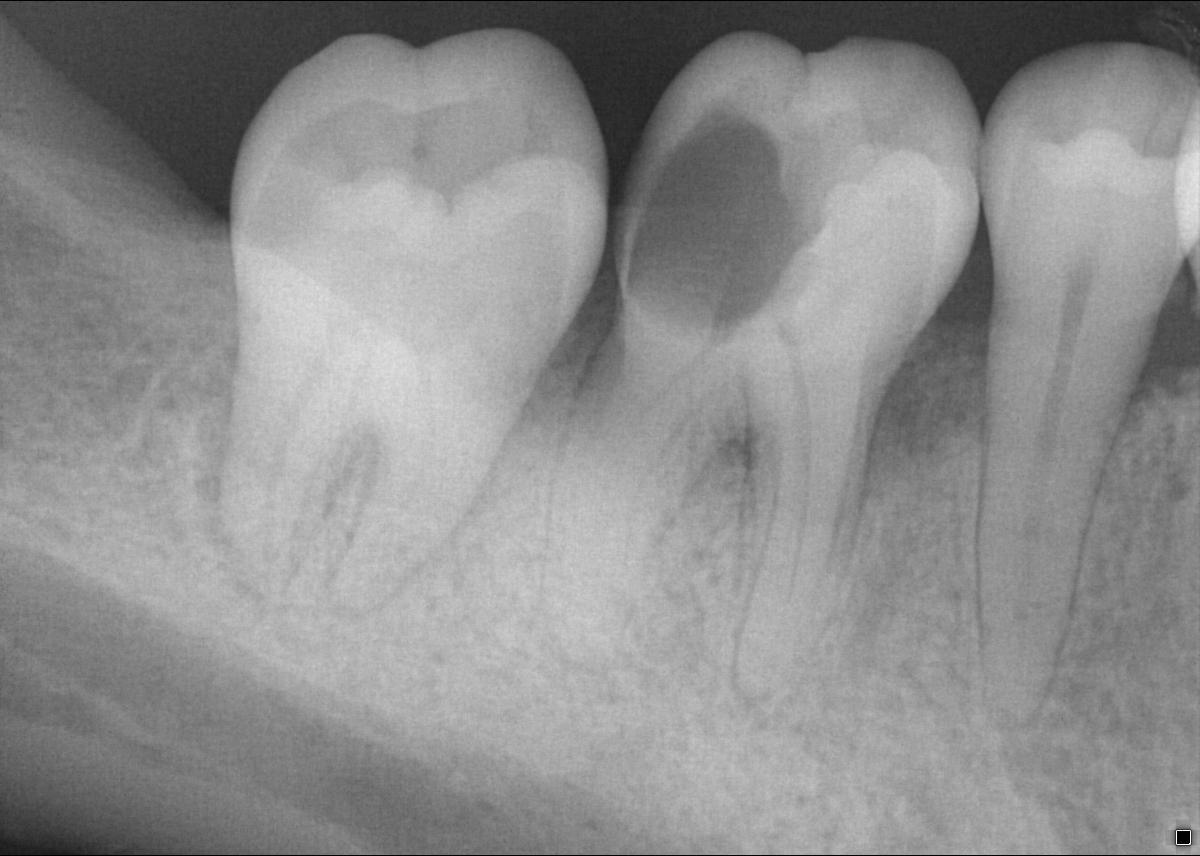Endo-Periodontal Lesion: (705, 422, 762, 494)
